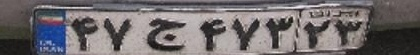character: (142, 13, 192, 55), (228, 12, 264, 55), (100, 12, 135, 55), (67, 12, 101, 55), (194, 15, 230, 55), (264, 12, 296, 52), (334, 17, 365, 48), (303, 17, 330, 50)
